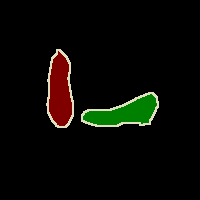shoe: (82, 92, 158, 126), (47, 50, 73, 127)
